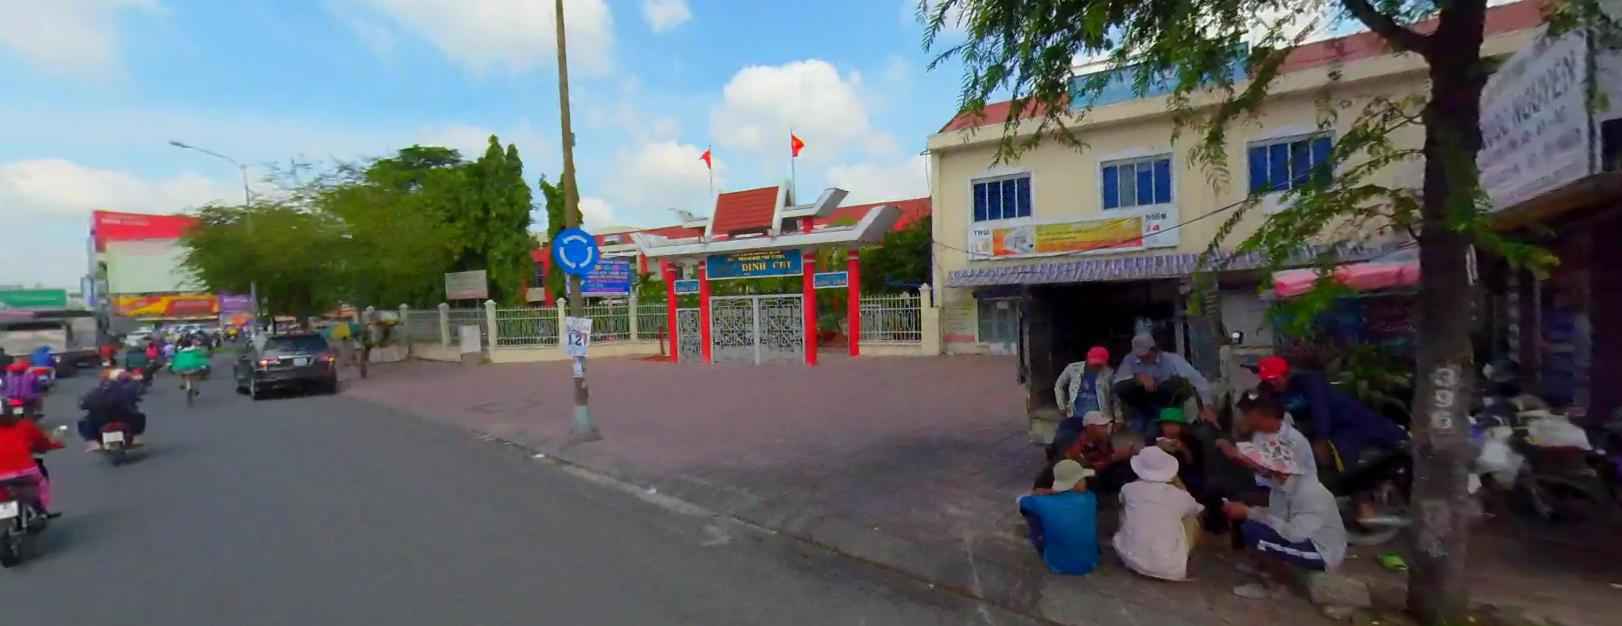Hieu lenh: (552, 227, 599, 274)
